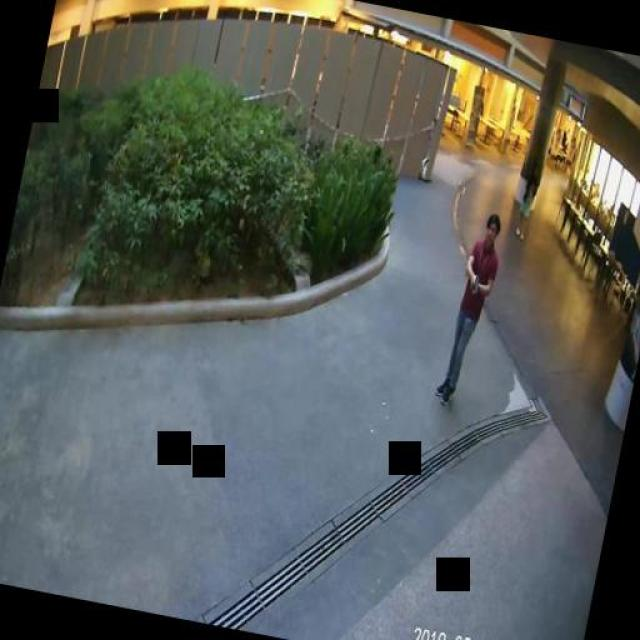gun: (470, 271, 481, 295)
